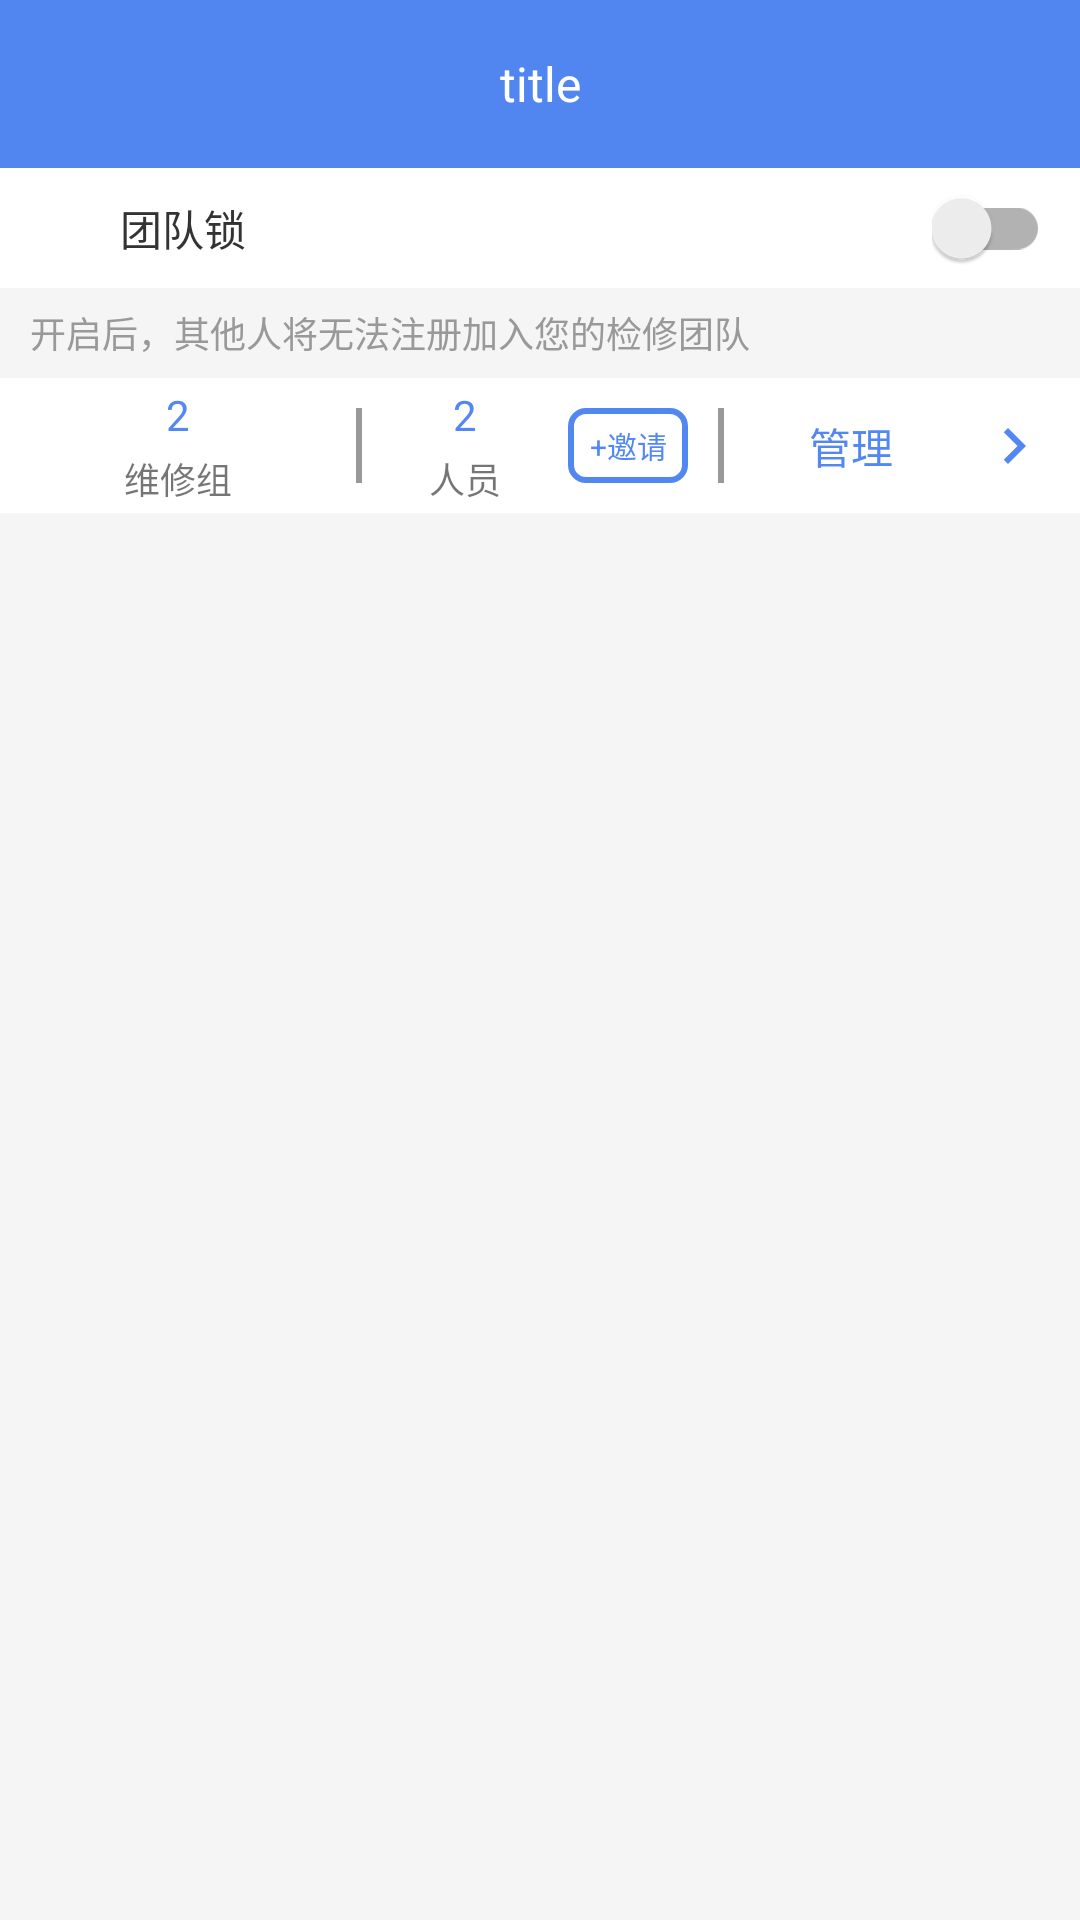

Icon bounding boxes for this 1080x1920 phone screenshot, format (left=x1, top=y1, right=x2, bottom=y2):
chevron right: (left=1004, top=428, right=1026, bottom=464)
